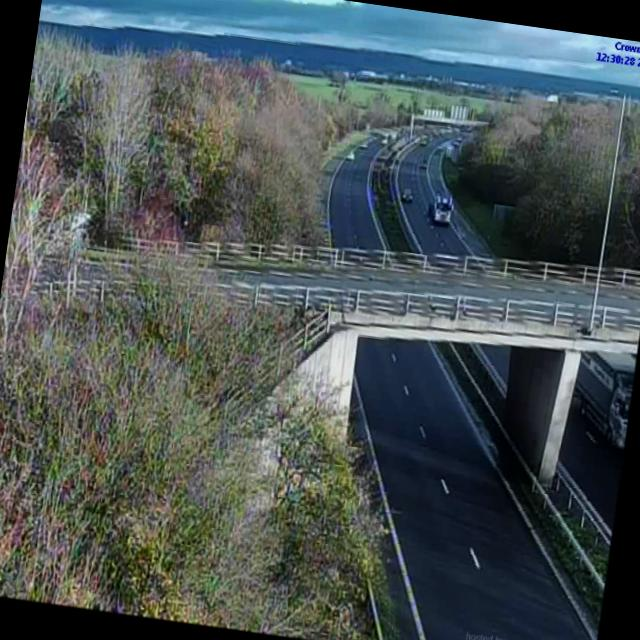foliage: (0, 146, 381, 640), (23, 32, 332, 245), (456, 96, 620, 262), (604, 103, 640, 266)
